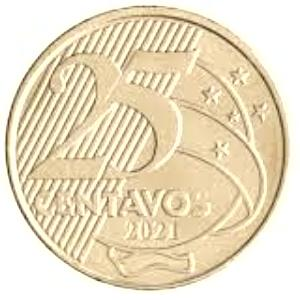25 cent: (4, 4, 290, 290)
